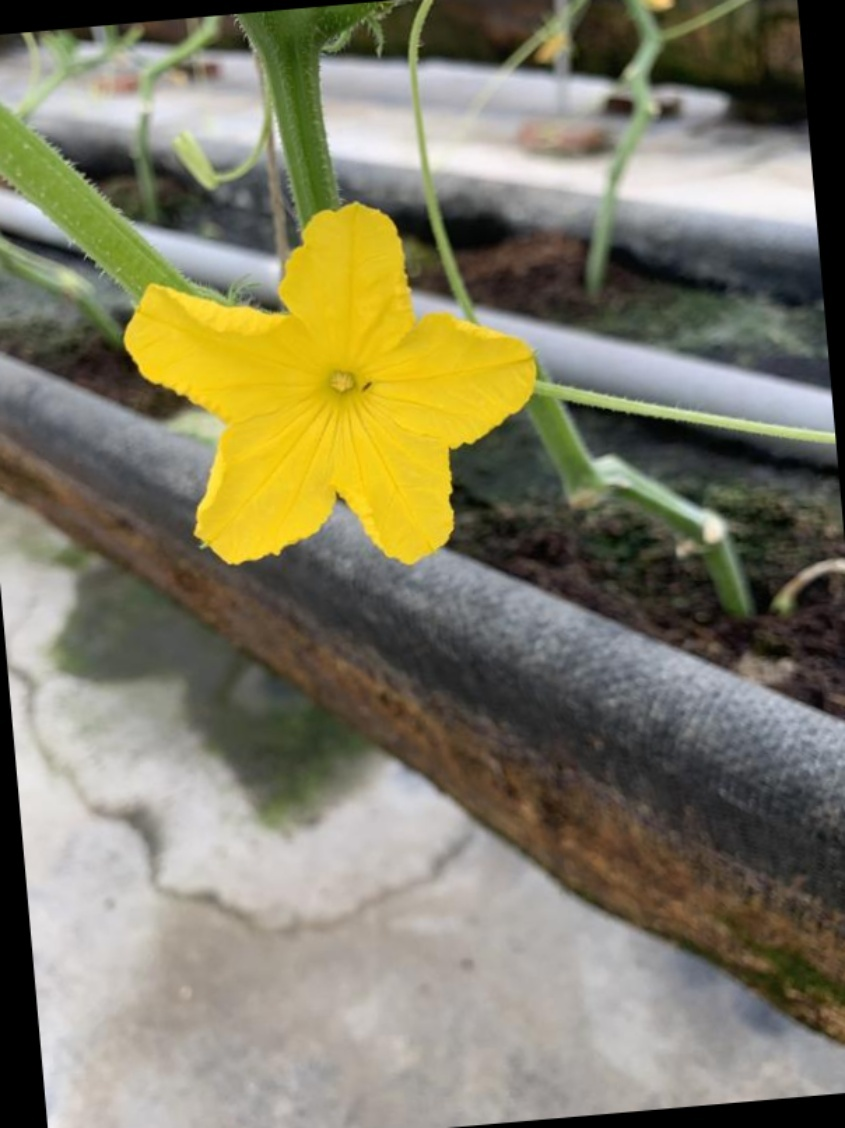mature: (120, 203, 543, 568)
